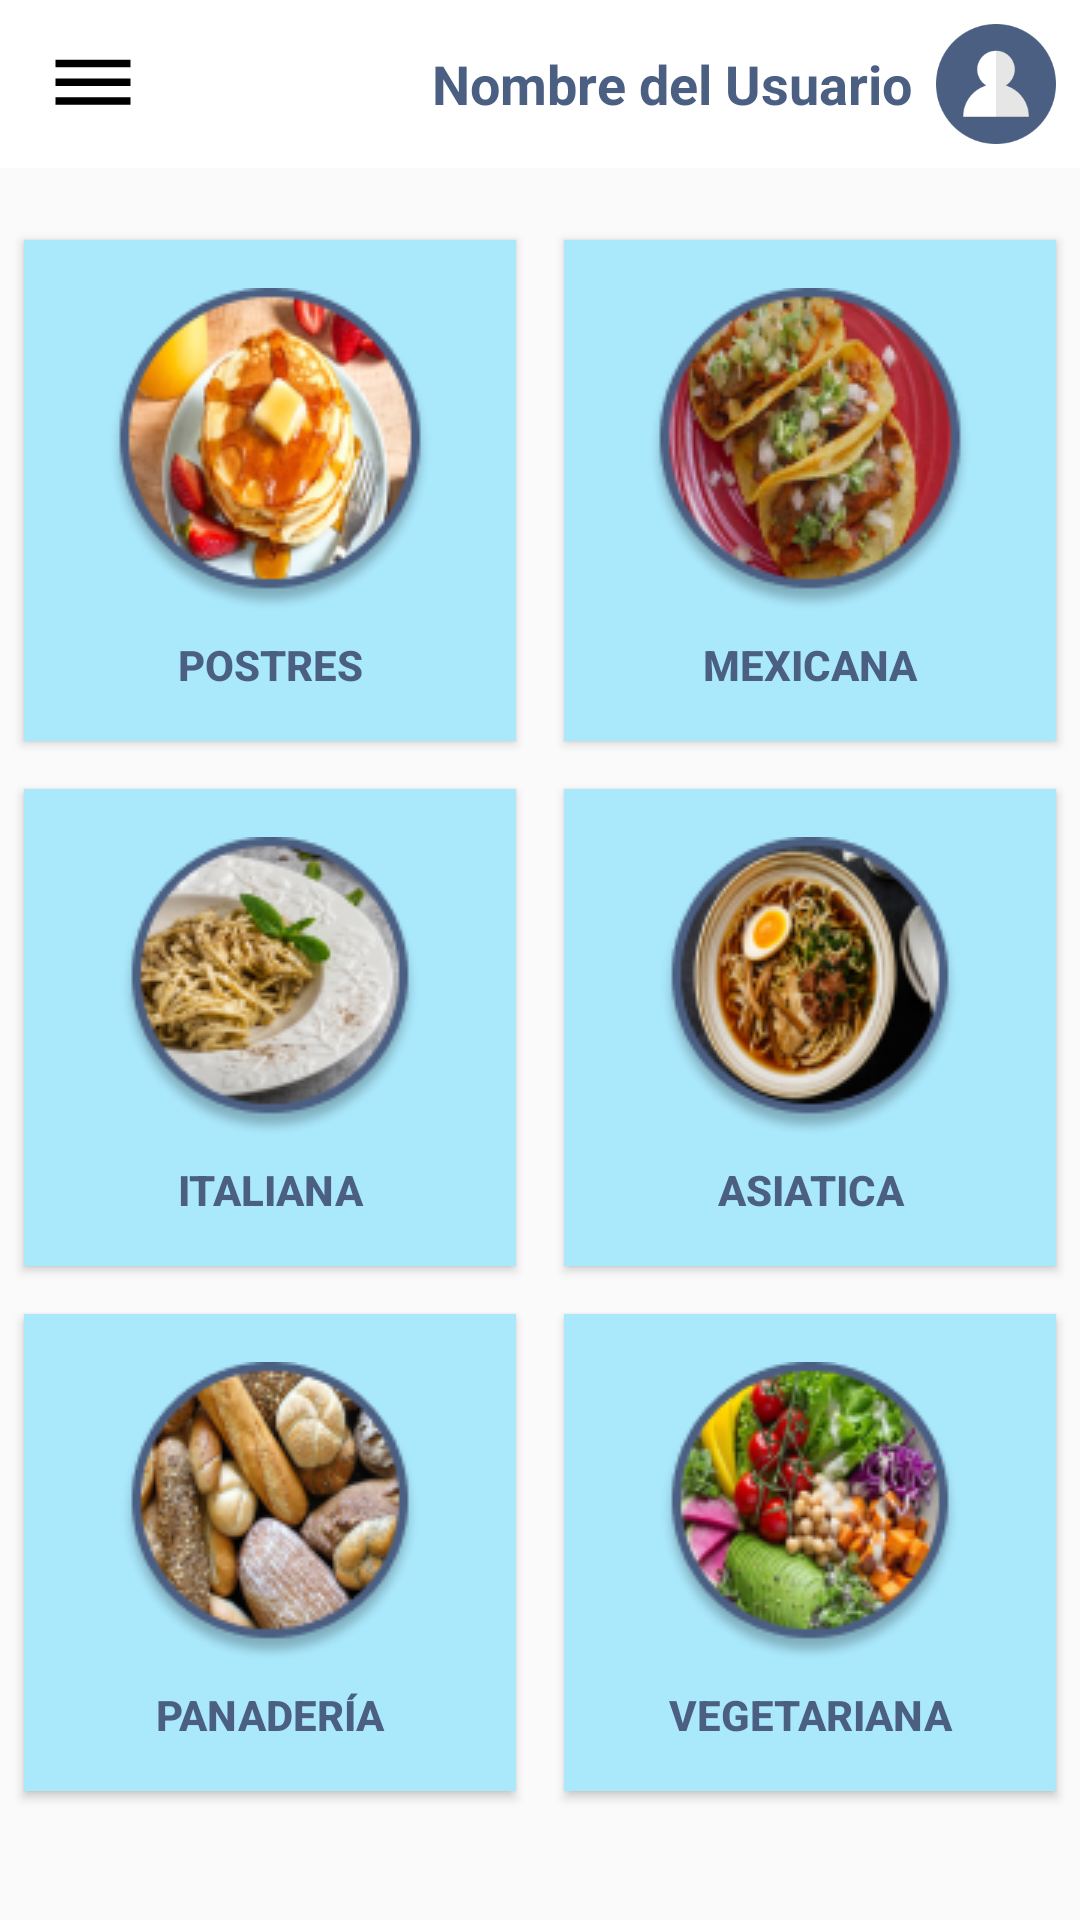

Icon bounding boxes for this 1080*1920 phone screenshot, format (x1, y1, x2, y2):
Menu Icon: (55, 59, 131, 105)
Profile Image: (936, 24, 1056, 144)
